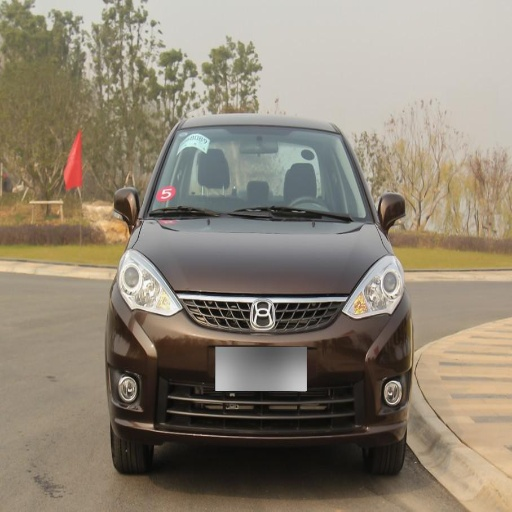front_bumper: (108, 293, 406, 445)
front_right_light: (116, 251, 179, 314)
hood: (136, 219, 385, 294)
